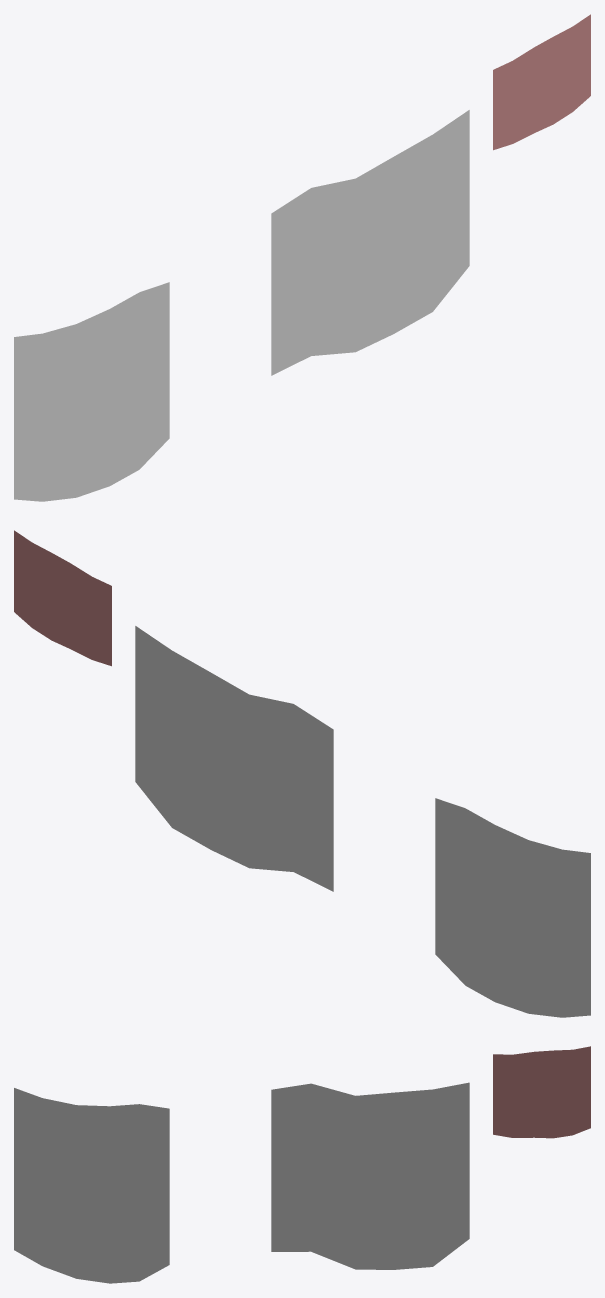
File: snow_falling.FBX
3 views of the same model, one above another, from view 1: azimuth 30°, elevation 25°; view 2: azimuth 150°, elevation 25°; view 3: azimuth 330°, elevation 25° (orthographic).
Visible parts, largest first — view 1: snow_falling; view 2: snow_falling; view 3: snow_falling.
Boxes of the visible parts, x1=… form: snow_falling: x1=14, y1=14, x2=590, y2=501; snow_falling: x1=14, y1=530, x2=590, y2=1017; snow_falling: x1=14, y1=1046, x2=590, y2=1283.
Size of the model in its own units: 439 by 261 by 1.85e-05.
